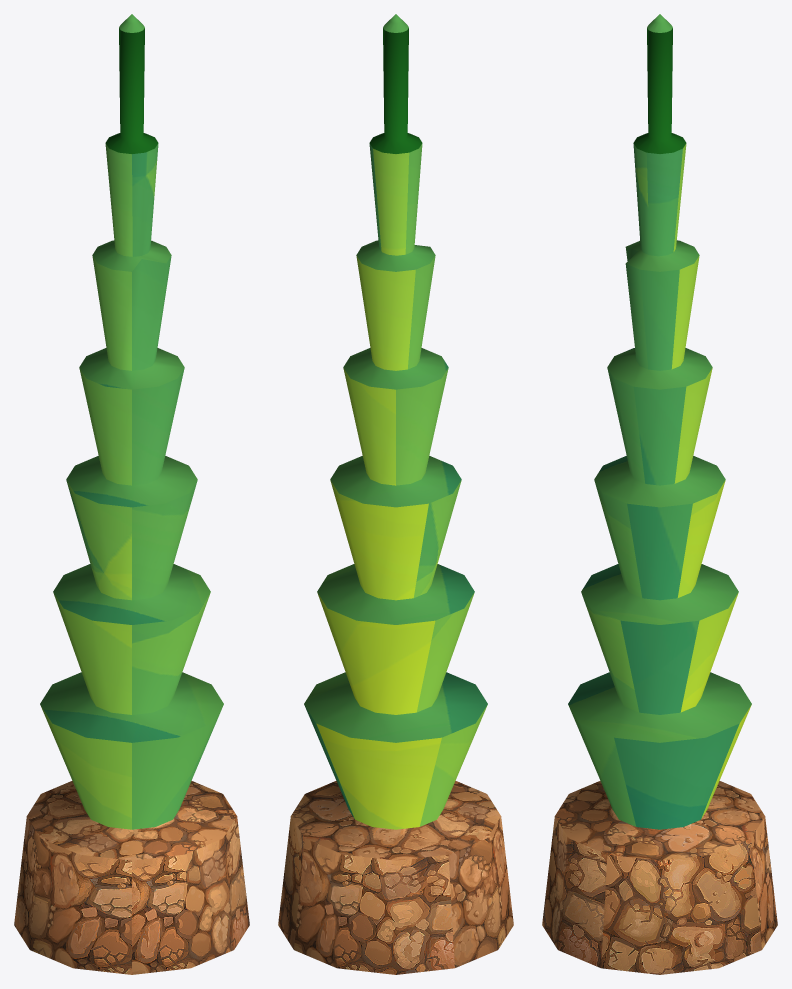
File: Decoration.FBX
3 renders of one model, left to right at view 1: azimuth 30°, elevation 25°; view 2: azimuth 150°, elevation 25°; view 3: azimuth 270°, elevation 25°, orthographic.
Visible parts, largest first — view 1: Decoration; view 2: Decoration; view 3: Decoration.
Part boxes in pixels (bbox=[...]): Decoration: bbox=[14, 14, 249, 974]; Decoration: bbox=[278, 14, 513, 974]; Decoration: bbox=[542, 14, 777, 974].
Bounding box in the file's own units: 1.3 × 5.52 × 1.3.
Materials: 3 (2 with a texture image).
